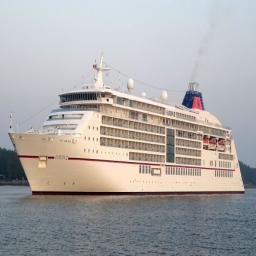cruises: (7, 51, 248, 199)
